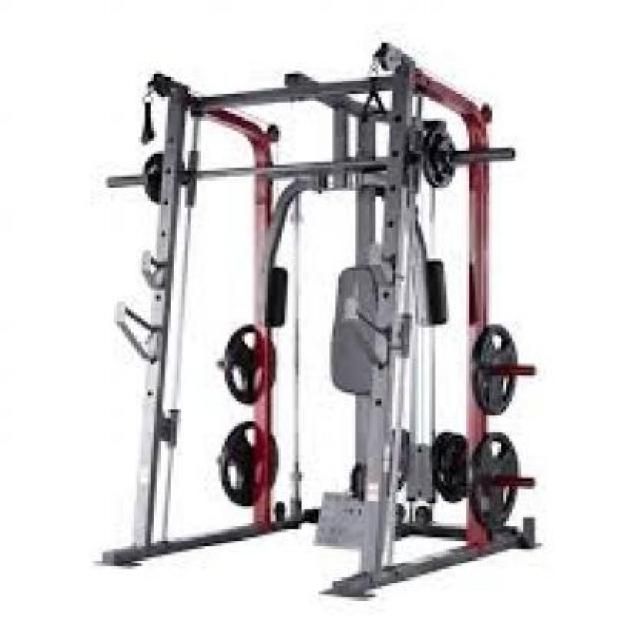smith machine: (104, 40, 542, 602)
